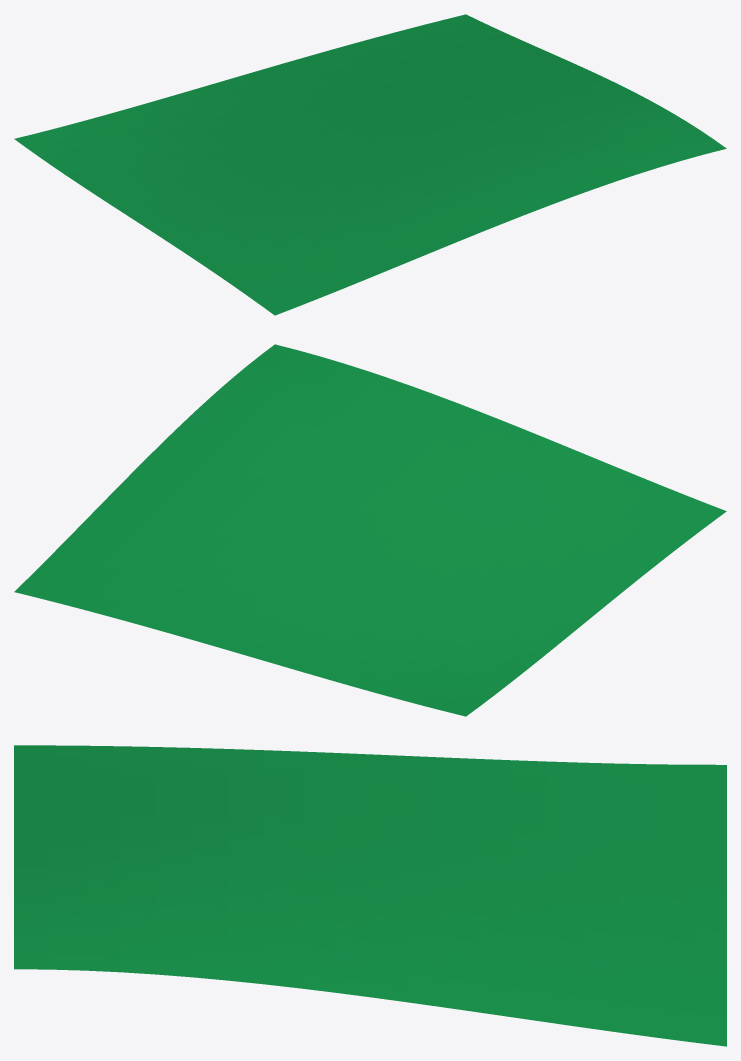
File: Hill_Curved_Edge_2.fbx
3 renders of one model, top to bottom at view 1: azimuth 30°, elevation 25°; view 2: azimuth 150°, elevation 25°; view 3: azimuth 270°, elevation 25°, orthographic. The views are drawn at different scales.
Parts seen in each view (by area): view 1: Straight; view 2: Straight; view 3: Straight.
Boxes of the visible parts, left/top/right/bottom form: Straight: left=14, top=14, right=726, bottom=315; Straight: left=14, top=344, right=726, bottom=716; Straight: left=14, top=745, right=726, bottom=1046.
Bounding box in the file's own units: 20 × 3 × 20.
